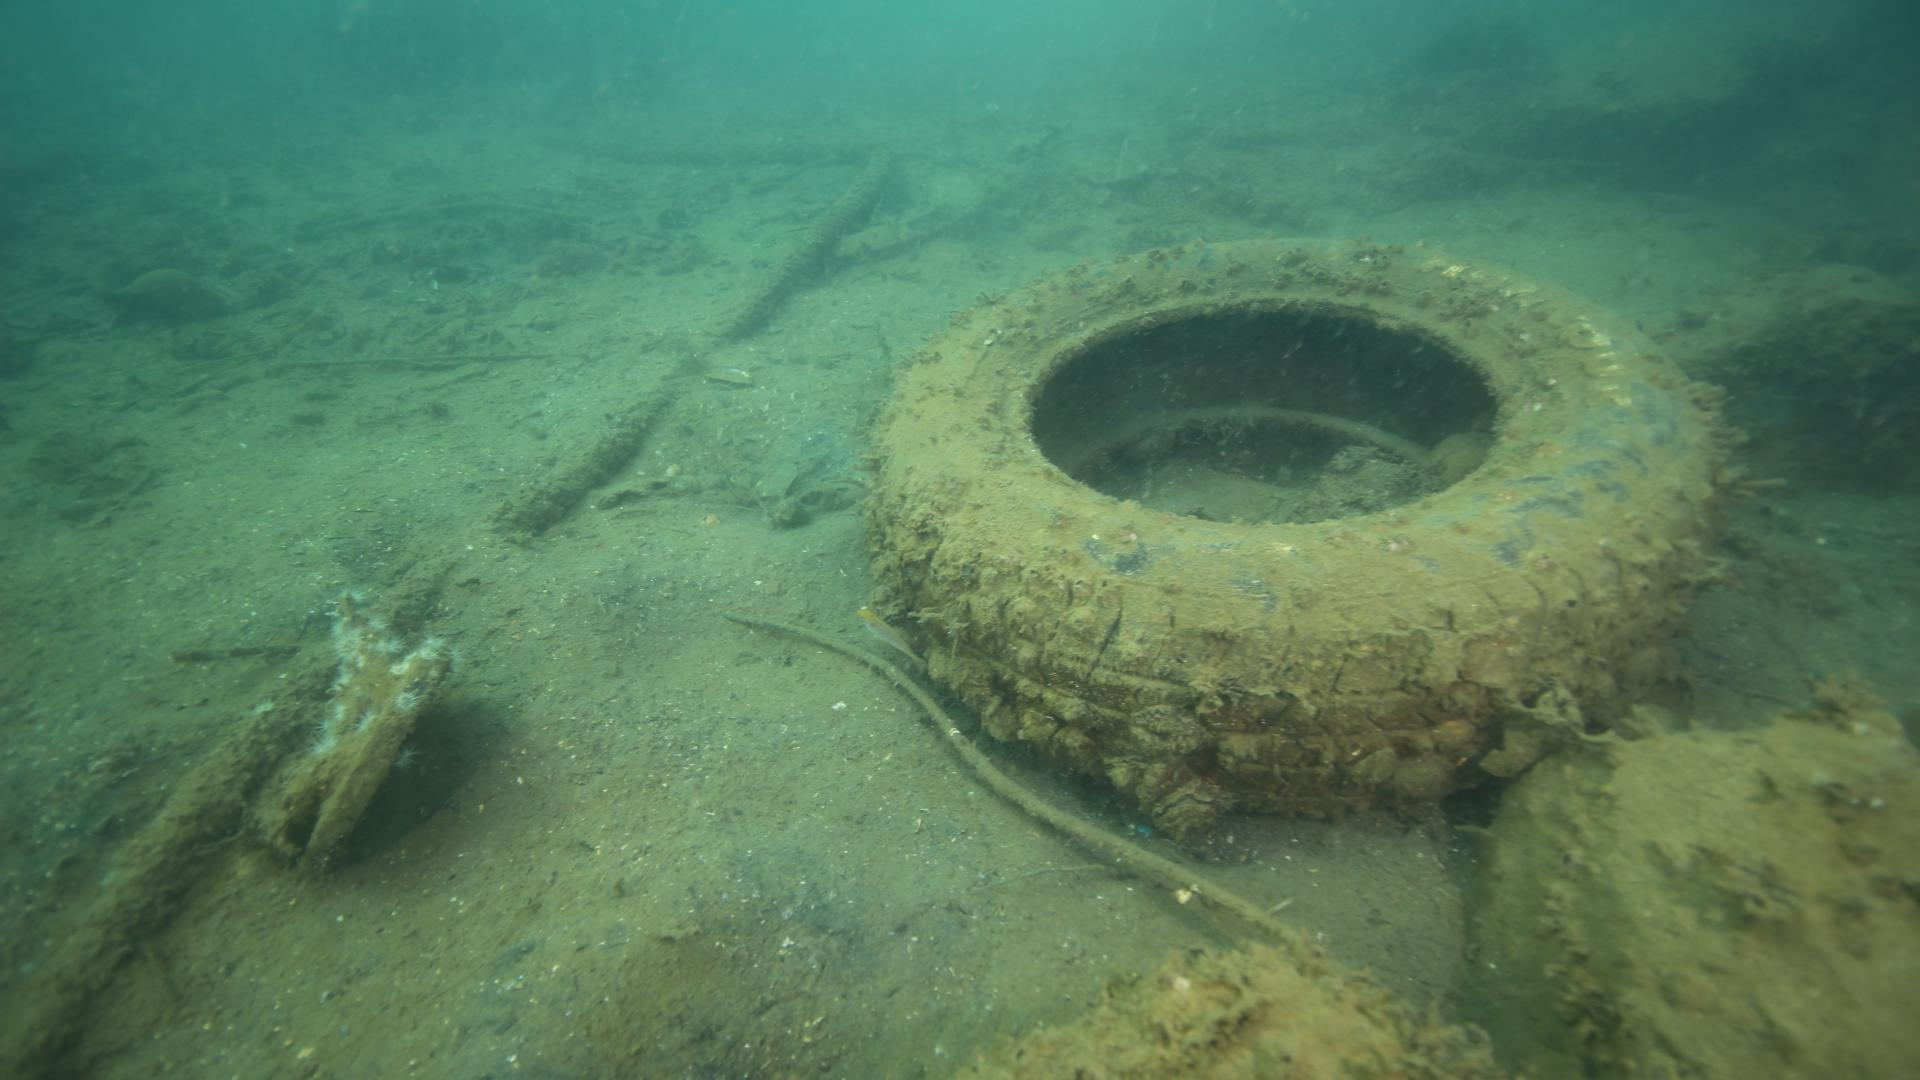tire: (872, 237, 1712, 810)
